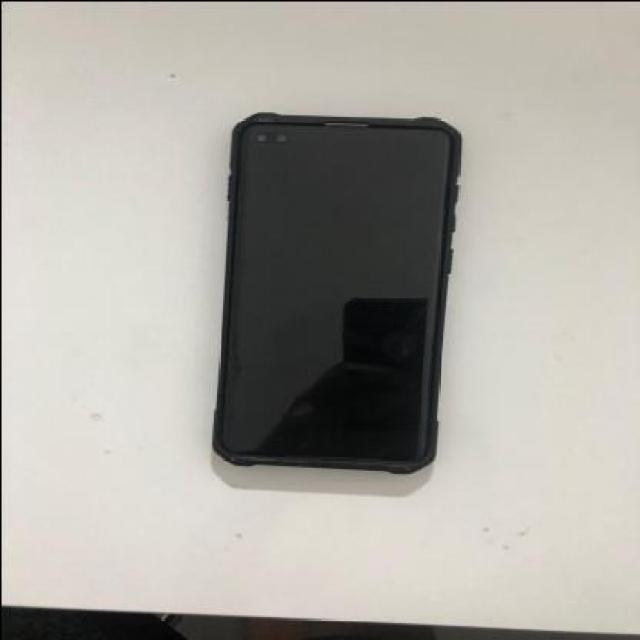phone: (205, 105, 463, 477)
